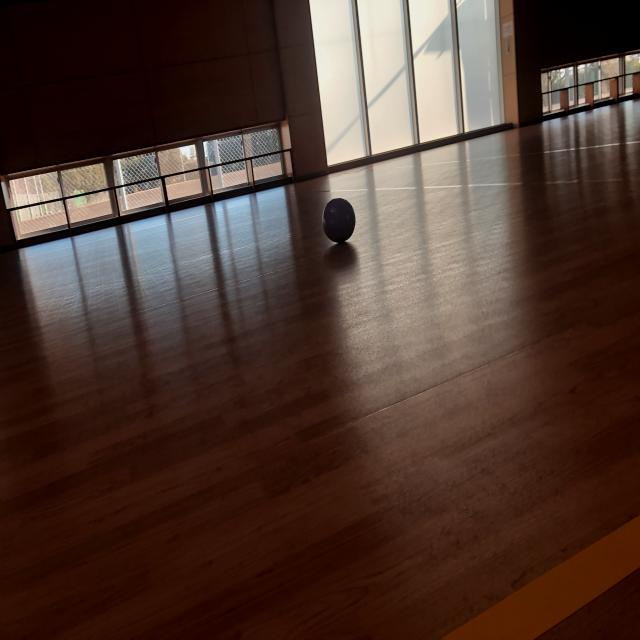purple_ball: (322, 195, 356, 245)
